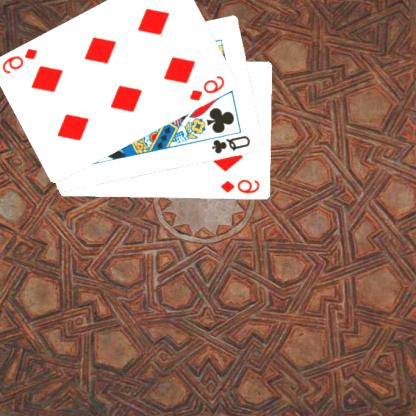6D: (188, 72, 229, 102), (1, 46, 42, 75), (220, 177, 264, 195)
QC: (211, 133, 254, 156)
